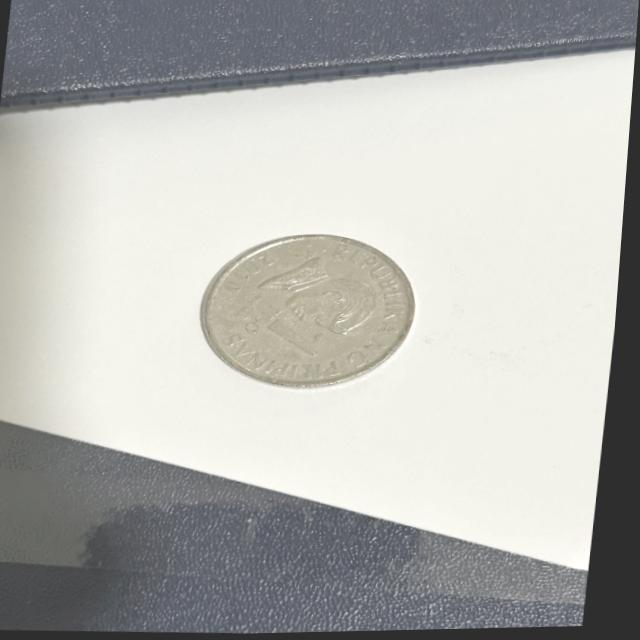1_Old_Front: (239, 306, 340, 363)
